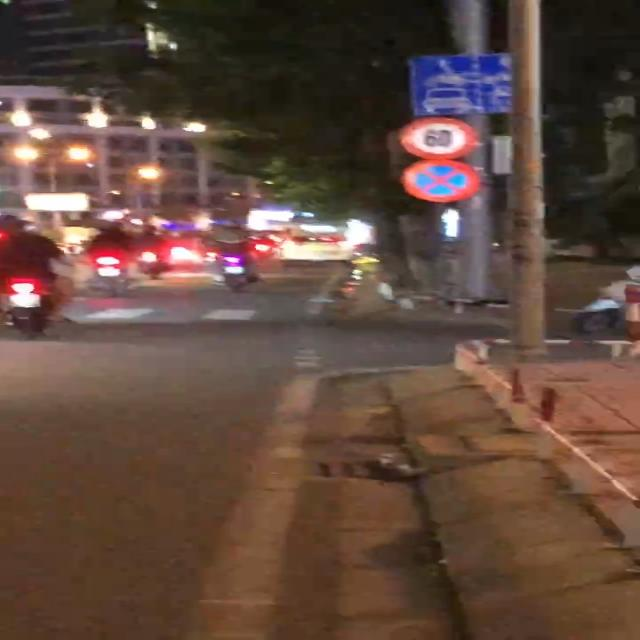Bien bao cam dung xe va do xe: (398, 159, 483, 206)
Bien bao toc do toi da cho phep: (397, 113, 482, 159)
